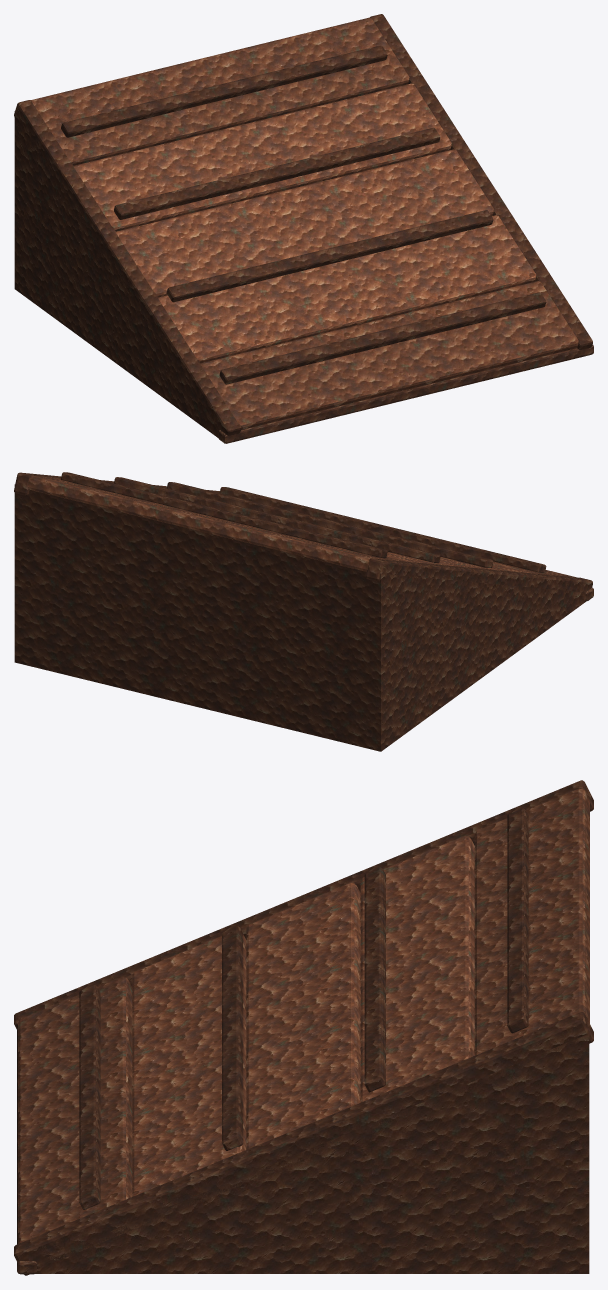
File: ramp__copper_ingot.glb
3 views of the same model, one above another, from view 1: azimuth 30°, elevation 25°; view 2: azimuth 150°, elevation 25°; view 3: azimuth 270°, elevation 25° (orthographic). The views are drawn at different scales.
Parts seen in each view (by area): view 1: model; view 2: model; view 3: model.
Part boxes in pixels (left/top/right/bottom): model: left=14, top=14, right=593, bottom=443; model: left=14, top=472, right=593, bottom=751; model: left=14, top=780, right=593, bottom=1275.
Bounding box in the file's own units: 2.02 × 0.9917 × 2.03.
Materials: 3 (3 with a texture image).
